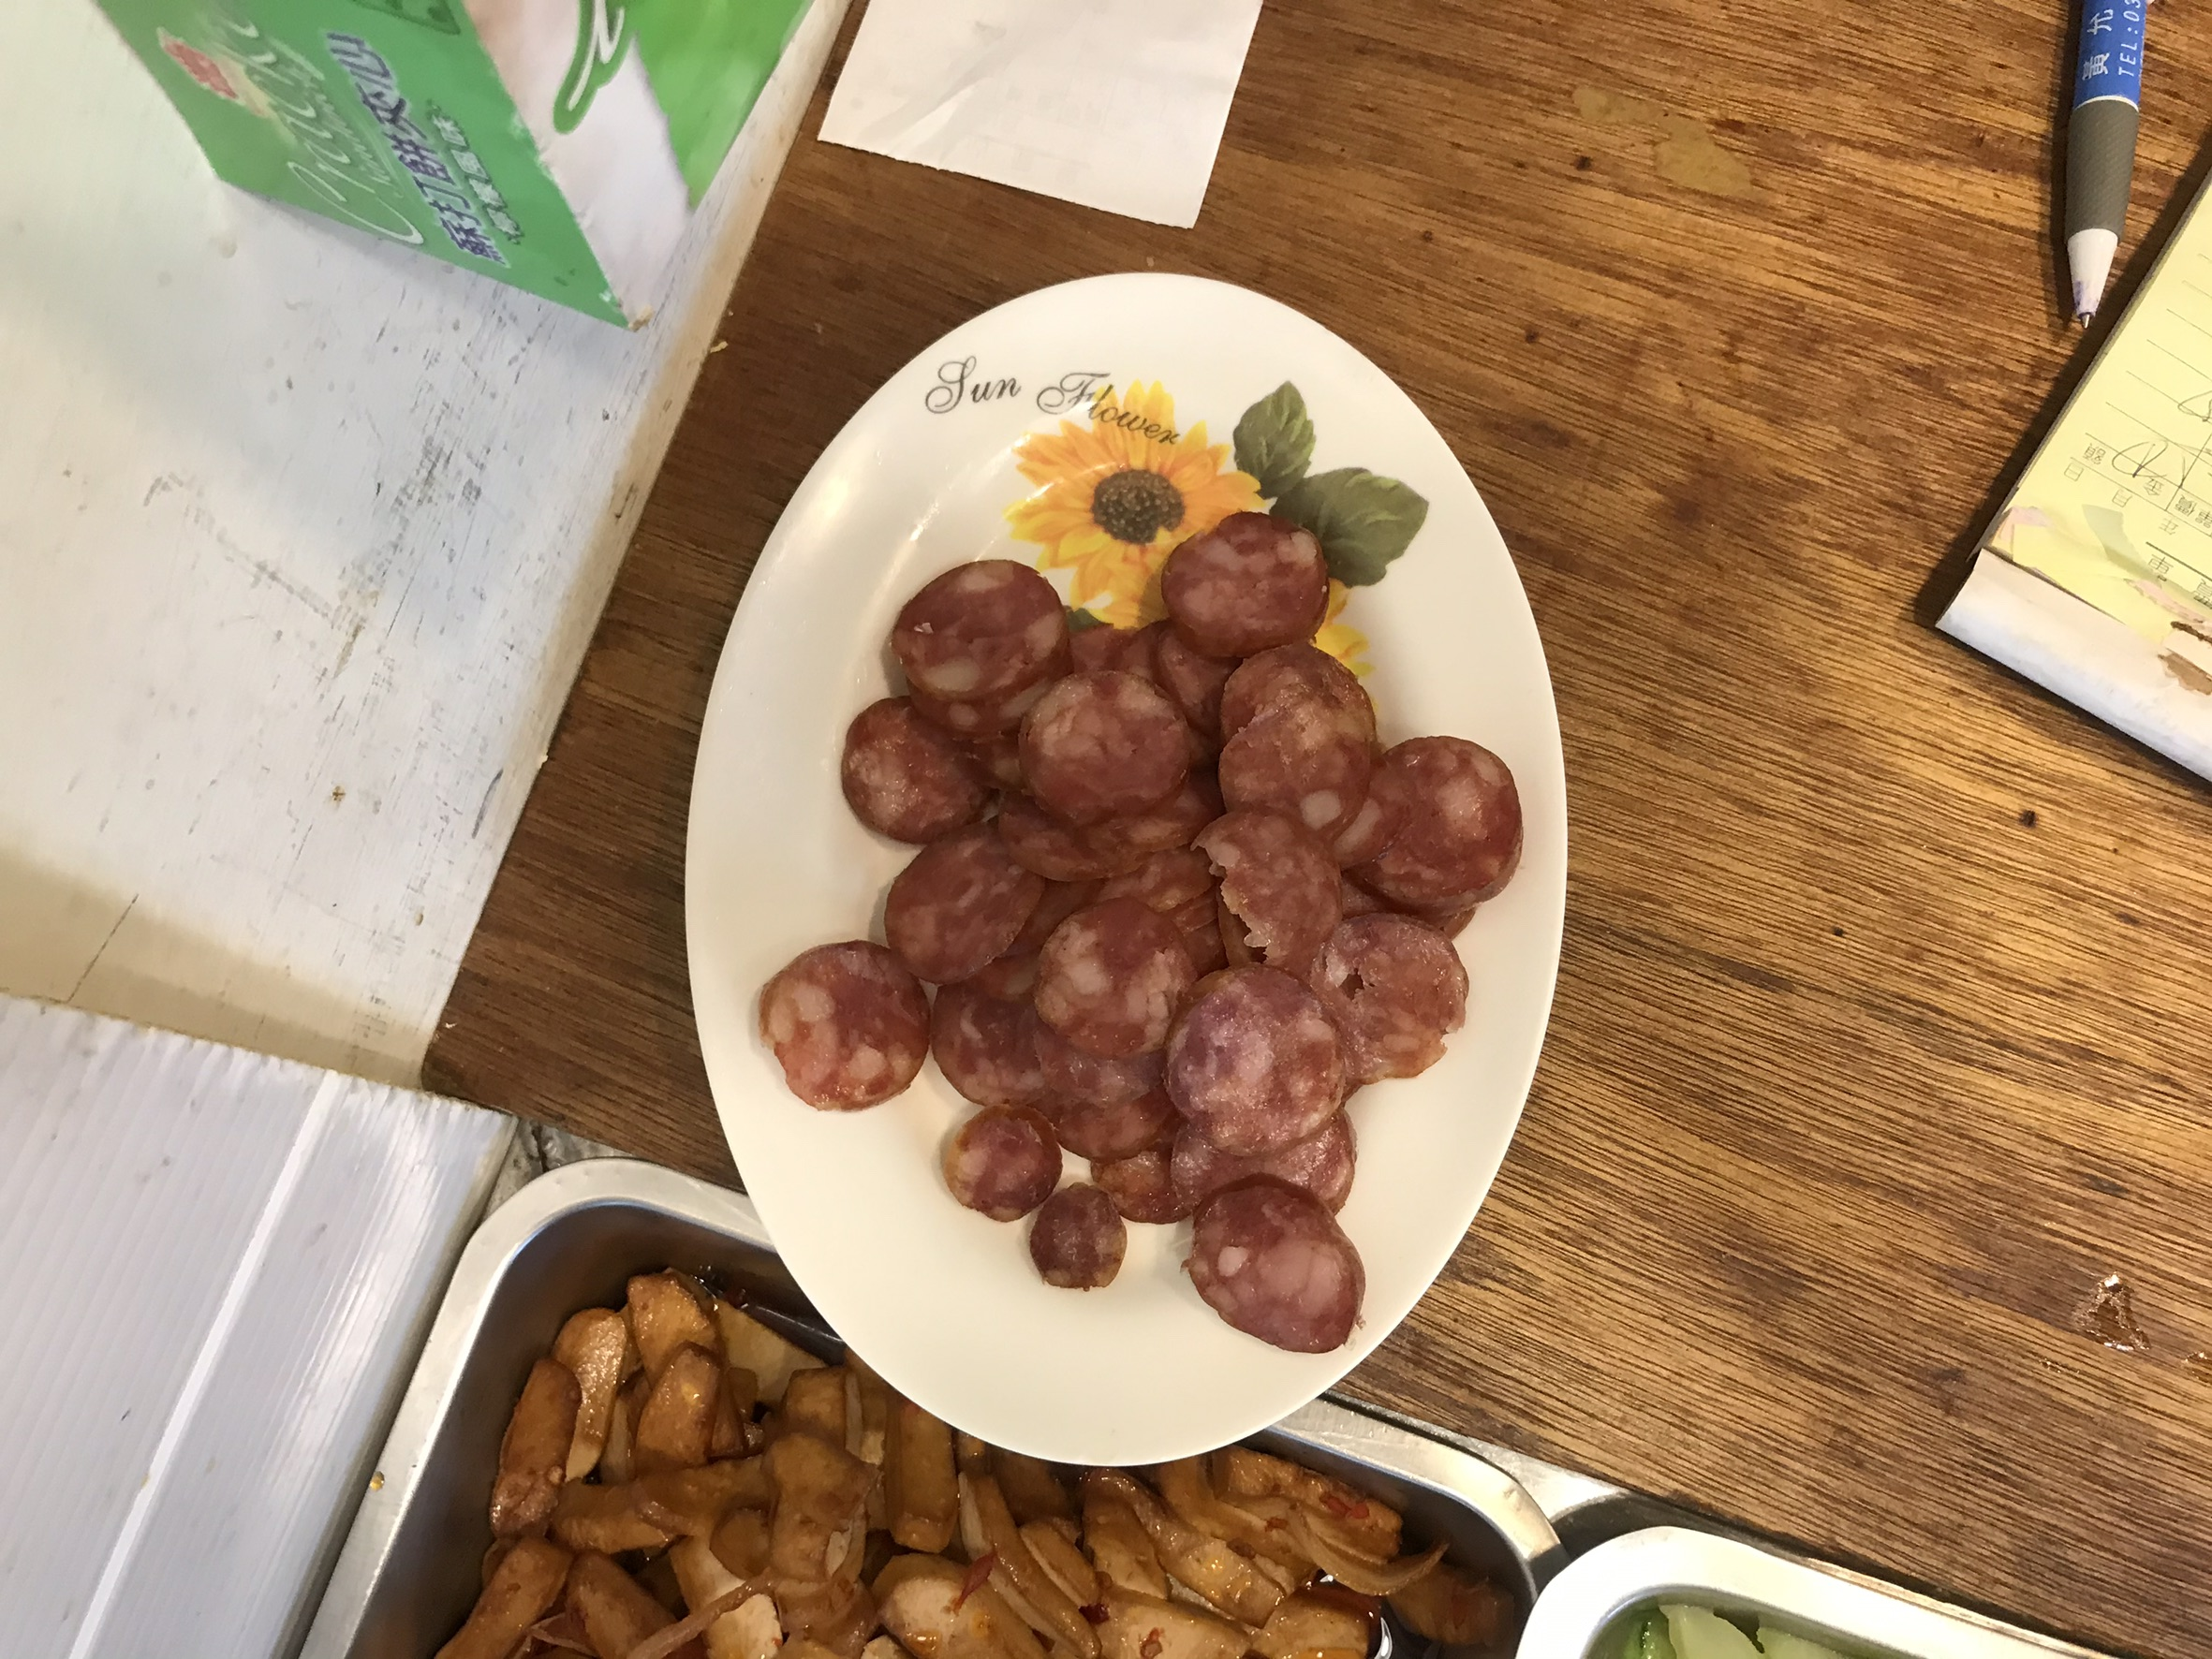chinese_sausage: (783, 516, 1503, 1354)
